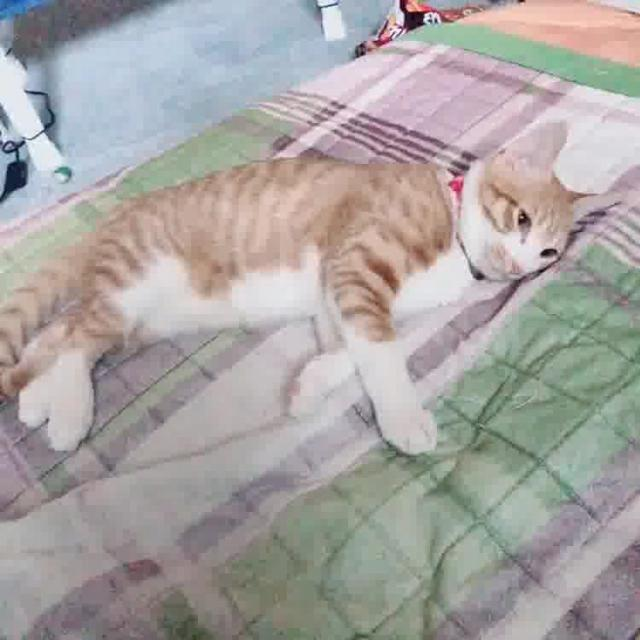cat: (2, 112, 637, 473)
